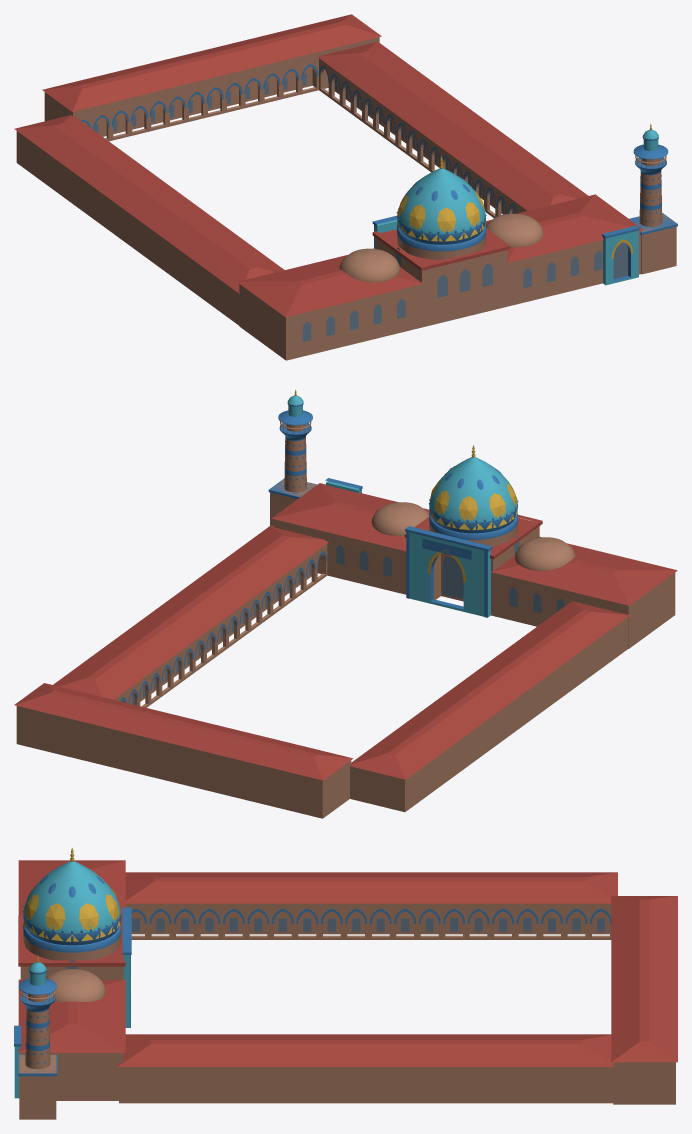
The model's file is yerevan-blue-mosque.detail.glb.
3 views of the same model, one above another, from view 1: azimuth 30°, elevation 25°; view 2: azimuth 150°, elevation 25°; view 3: azimuth 270°, elevation 25° (orthographic). The views are drawn at different scales.
Parts seen in each view (by area): view 1: Blue Mosque; view 2: Blue Mosque; view 3: Blue Mosque.
Boxes of the visible parts, left/top/right/bottom form: Blue Mosque: left=14, top=14, right=677, bottom=360; Blue Mosque: left=14, top=389, right=677, bottom=818; Blue Mosque: left=14, top=848, right=677, bottom=1119.
Bounding box in the file's own units: 73.2 × 25.7 × 97.4.
